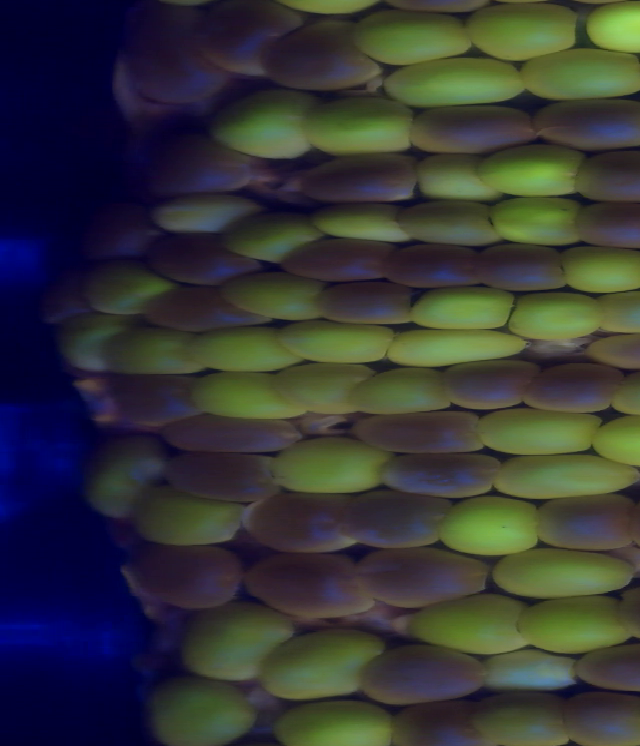fluorescent: (263, 625, 380, 698), (178, 599, 278, 681), (151, 676, 256, 742), (386, 59, 526, 107), (412, 593, 525, 652), (130, 489, 244, 545), (307, 95, 413, 155), (213, 92, 310, 157), (519, 596, 633, 651), (86, 437, 163, 517), (492, 450, 640, 491), (492, 549, 633, 592), (477, 407, 602, 455), (440, 497, 539, 557), (353, 12, 471, 62), (269, 441, 385, 491), (470, 3, 575, 58), (523, 49, 640, 97), (269, 698, 396, 742), (192, 373, 305, 422), (411, 283, 514, 334), (480, 145, 582, 196), (384, 328, 523, 365), (222, 272, 324, 322), (283, 319, 391, 364), (88, 255, 166, 317), (354, 367, 449, 416), (190, 324, 293, 369), (282, 364, 368, 417), (508, 292, 600, 340), (491, 197, 578, 247), (106, 328, 198, 375), (223, 212, 312, 260), (313, 201, 409, 244), (415, 154, 495, 203), (63, 312, 121, 377), (564, 246, 640, 294), (153, 197, 254, 230), (587, 4, 640, 52), (593, 419, 640, 467), (599, 291, 640, 332), (608, 370, 640, 411)
nonfluorescent: (120, 547, 244, 612), (268, 19, 374, 94), (355, 552, 487, 609), (246, 555, 371, 615), (191, 4, 290, 74), (358, 647, 483, 702), (123, 32, 218, 103), (146, 229, 254, 287), (244, 494, 352, 552), (409, 106, 538, 154), (349, 491, 451, 549), (303, 154, 418, 205), (166, 454, 276, 505), (153, 135, 250, 192), (352, 409, 480, 452), (537, 496, 633, 552), (381, 452, 497, 498), (146, 287, 267, 331), (533, 98, 640, 146), (164, 416, 301, 452), (281, 240, 389, 284), (315, 280, 409, 329), (523, 362, 615, 412), (444, 360, 531, 412), (110, 371, 193, 425), (475, 244, 567, 291), (387, 245, 475, 293), (565, 692, 640, 746), (573, 148, 640, 202), (398, 705, 483, 746), (101, 187, 149, 256), (578, 643, 640, 692), (577, 202, 640, 247), (593, 332, 640, 369)
